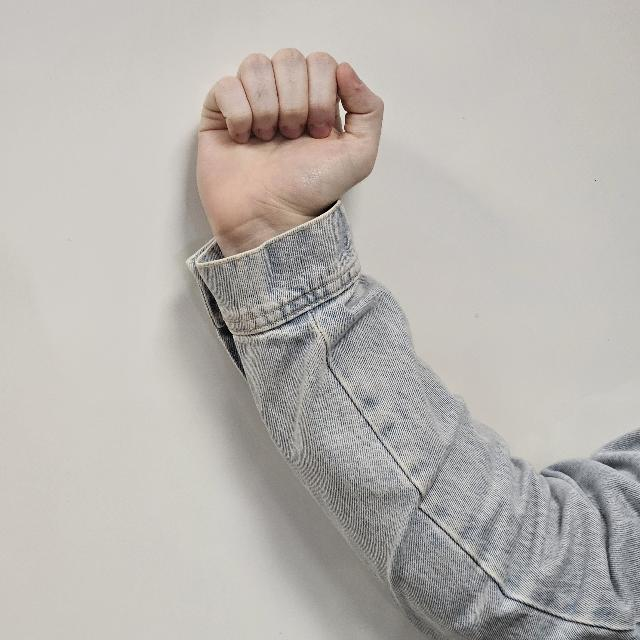Quadro: (194, 49, 386, 234)
